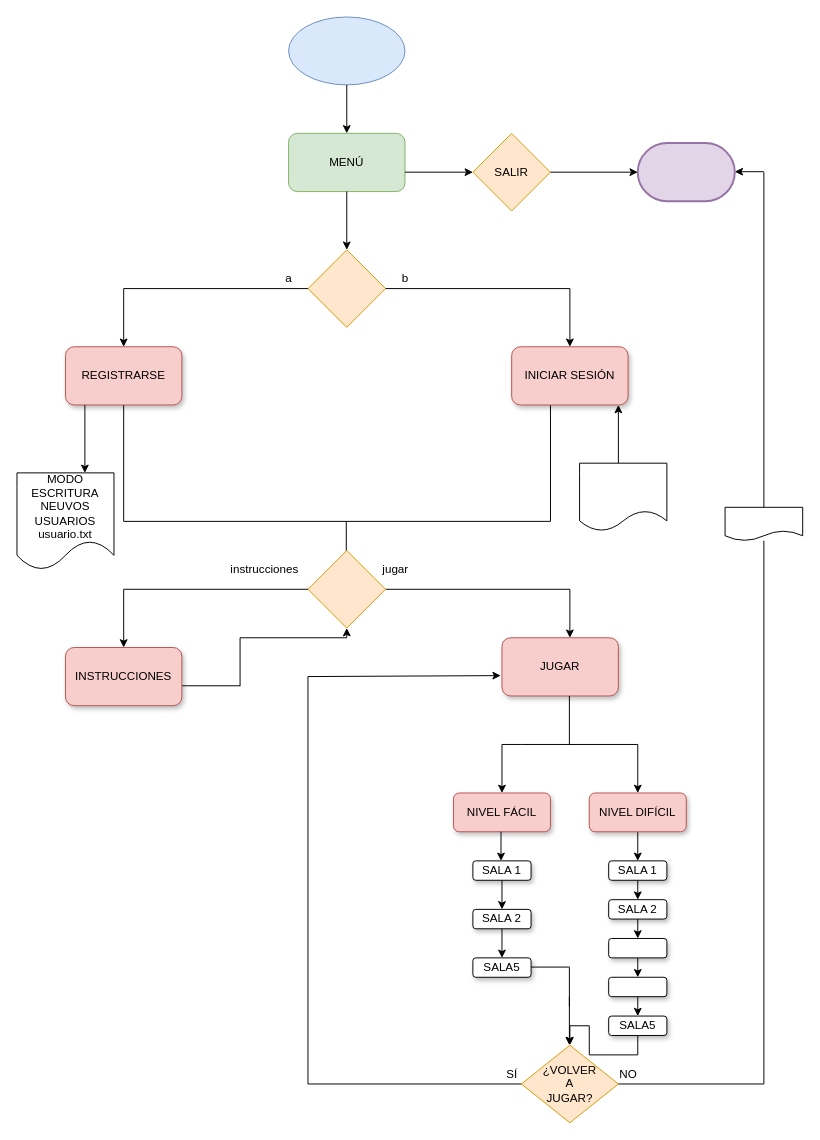
This 820x1140 diagram has some shape labels left out. Each missing label, with the centre of its shape:
Creditos.txt: the point at 763,523
DATOS GUARDADOS usuario.txt: the point at 623,496
ELEGIR: the point at 346,589
FINAL: the point at 685,172
INICIAR: the point at 346,288
INICIO: the point at 346,50
SALA3: the point at 638,949
SALA4: the point at 638,987
